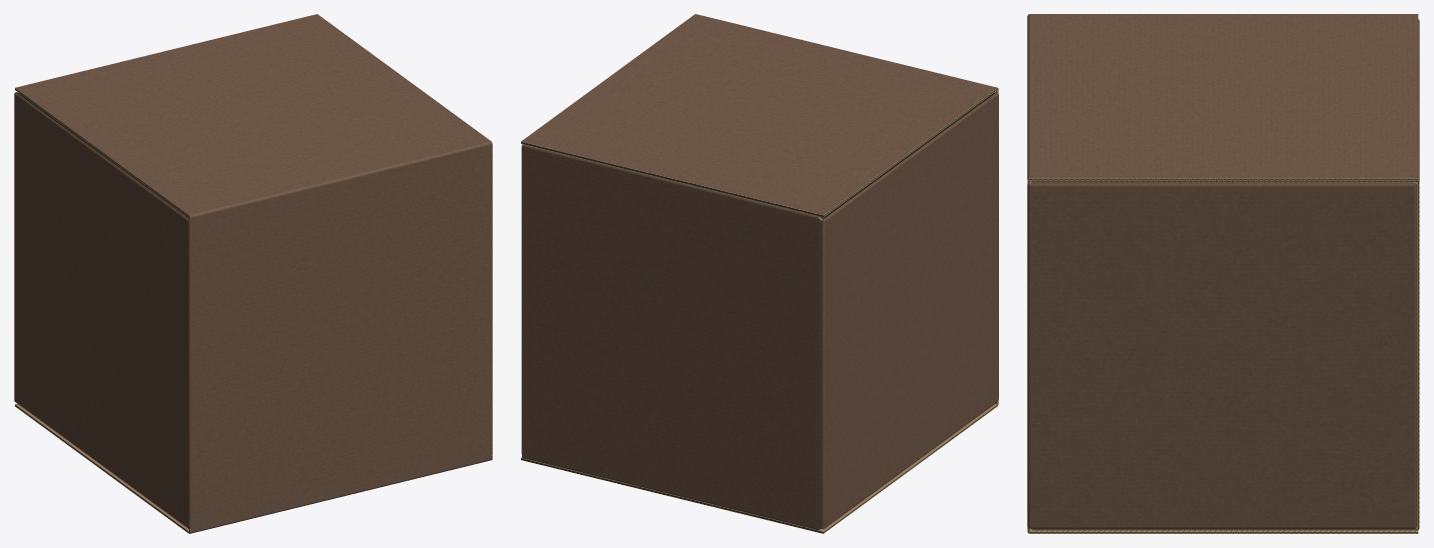
Rendered from 6DROTULO.gltf.
3 views of the same model, side by side, from view 1: azimuth 30°, elevation 25°; view 2: azimuth 150°, elevation 25°; view 3: azimuth 270°, elevation 25° (orthographic). The views are drawn at different scales.
Visible parts, largest first — view 1: TQ_ARD-node; view 2: TQ_ARD-node; view 3: TQ_ARD-node.
Boxes of the visible parts, x1,y1,x2,y2 form: TQ_ARD-node: [14, 14, 492, 533]; TQ_ARD-node: [521, 14, 998, 533]; TQ_ARD-node: [1027, 14, 1419, 533].
Bounding box in the file's own units: 0.2216 × 0.2216 × 0.2216.
Materials: 3 (2 with a texture image).
